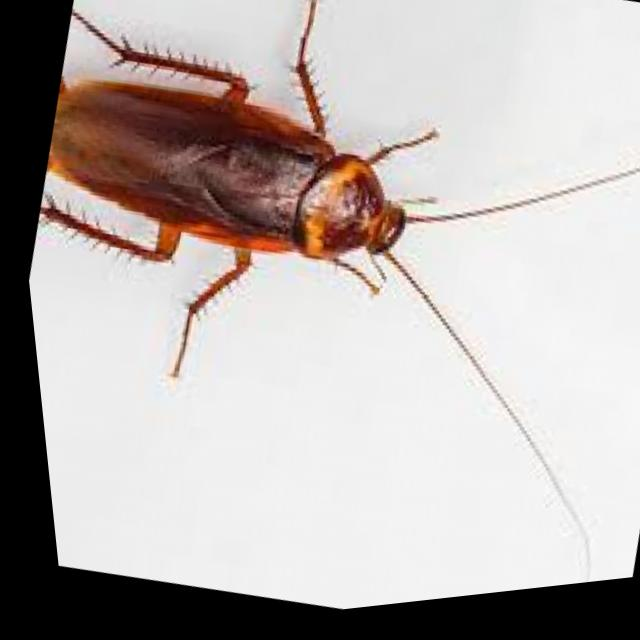Cockroach: (0, 0, 526, 438)
